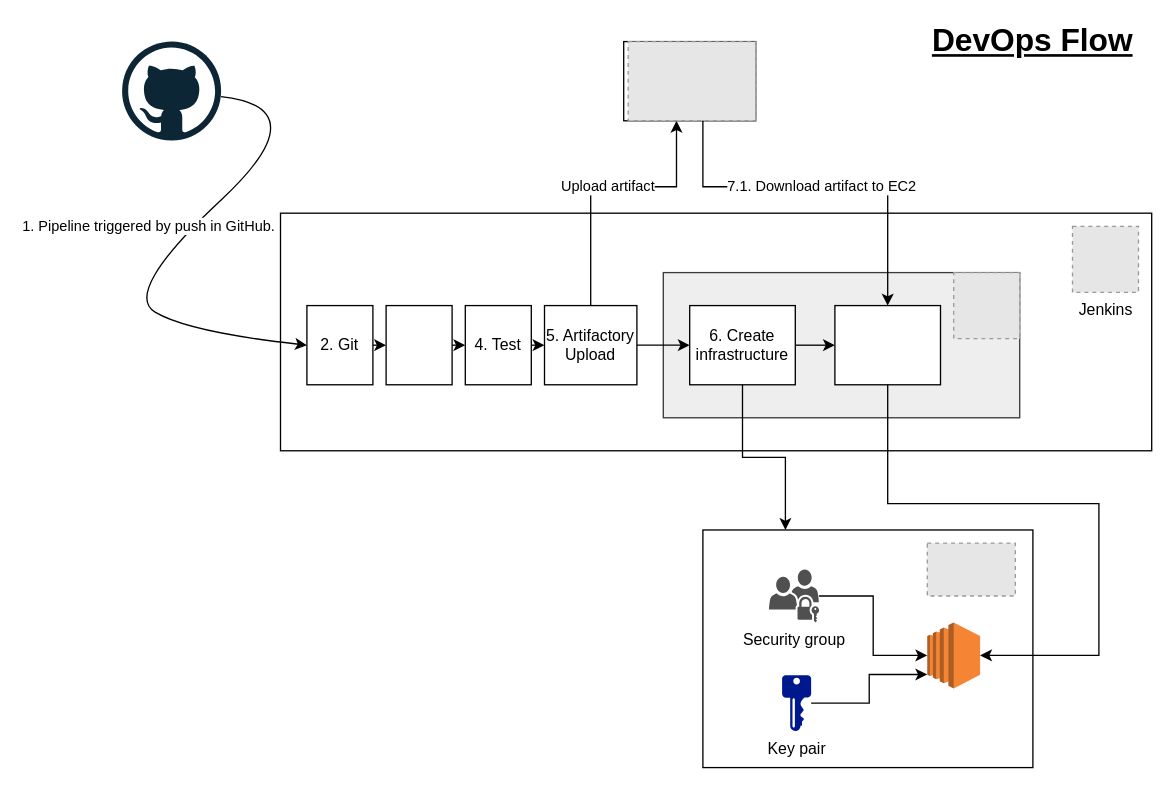
Image size: 1176x791. Some labels were removed from this diagram. Grey dashed boxes stand in for pictures. The shapes that lost their labels are listed below. From the top down, each one's centre as x and y in pixels, then its label:
At (171,90): "GitHub".
At (418,344): "3. Build".
At (887,344): "7. Config. management and deployment".
At (953,654): "EC2".
